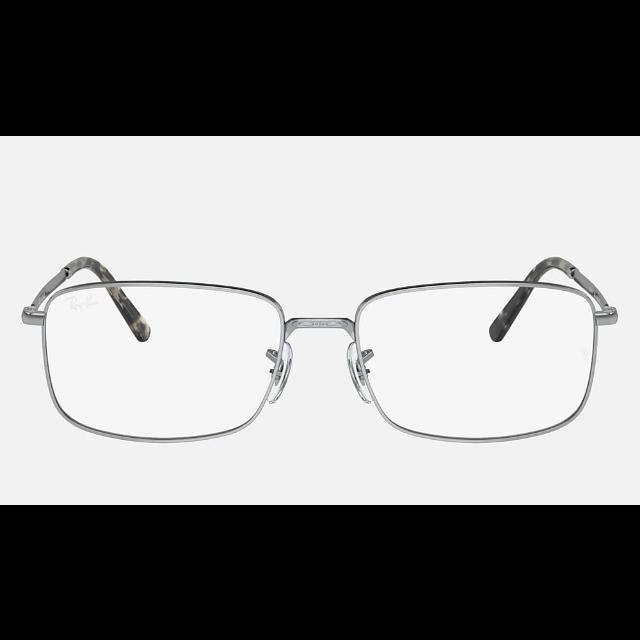glasses: (24, 255, 618, 440)
